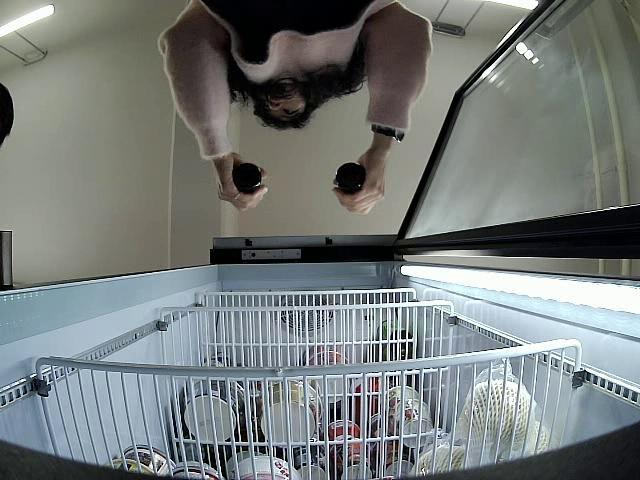17_vita500: (332, 161, 370, 200), (230, 158, 264, 196)
